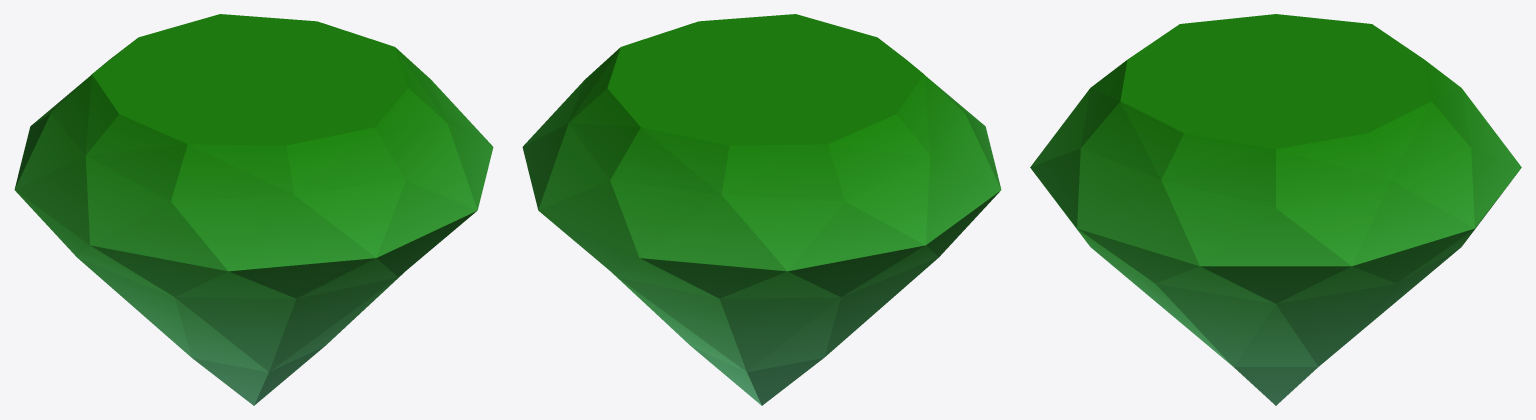
The model's file is Emerald.fbx.
3 renders of one model, left to right at view 1: azimuth 30°, elevation 25°; view 2: azimuth 150°, elevation 25°; view 3: azimuth 270°, elevation 25°, orthographic.
Visible parts, largest first — view 1: EMERALD.001; view 2: EMERALD.001; view 3: EMERALD.001.
Boxes of the visible parts, <box> form: EMERALD.001: <box>14,14,493,405</box>; EMERALD.001: <box>522,14,1001,405</box>; EMERALD.001: <box>1030,14,1521,405</box>.
Size of the model in its own units: 263 by 202 by 276.
Materials: 1 (1 with a texture image).
